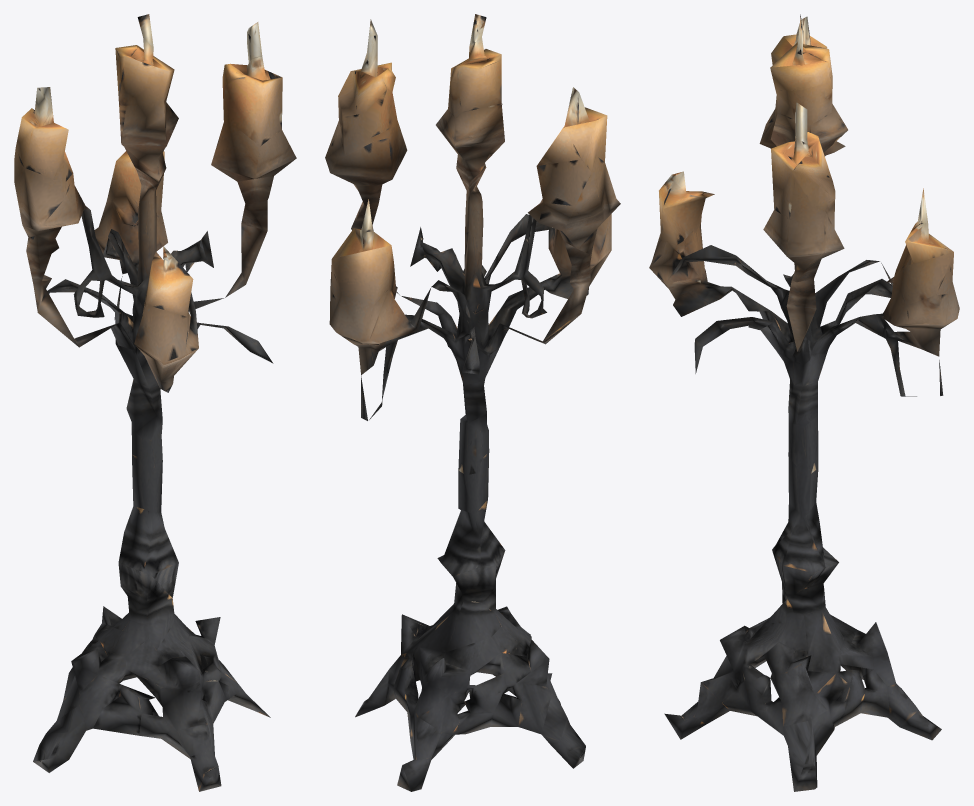
The model's file is candelabrum_tall.glb.
The picture shows the model from 3 angles, left to right: view 1: azimuth 30°, elevation 25°; view 2: azimuth 150°, elevation 25°; view 3: azimuth 270°, elevation 25°; orthographic projection. The views are drawn at different scales.
Bounding box in the file's own units: 0.7711 × 2 × 0.7851.
1 material, 1 textured.
